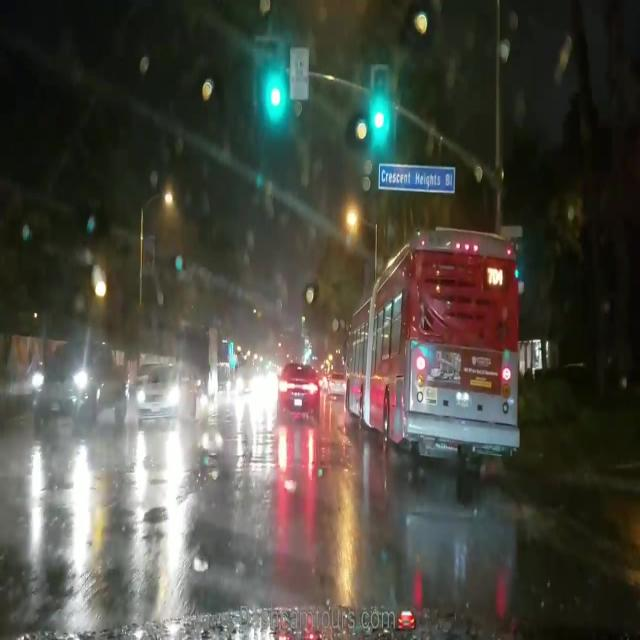Car: (32, 341, 128, 423), (136, 359, 195, 425), (274, 362, 319, 413), (326, 372, 344, 398)
